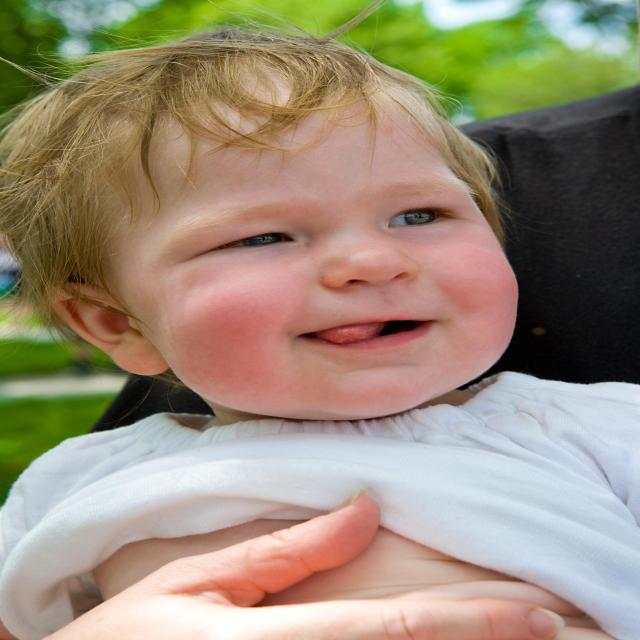no-glass: (208, 198, 456, 255)
